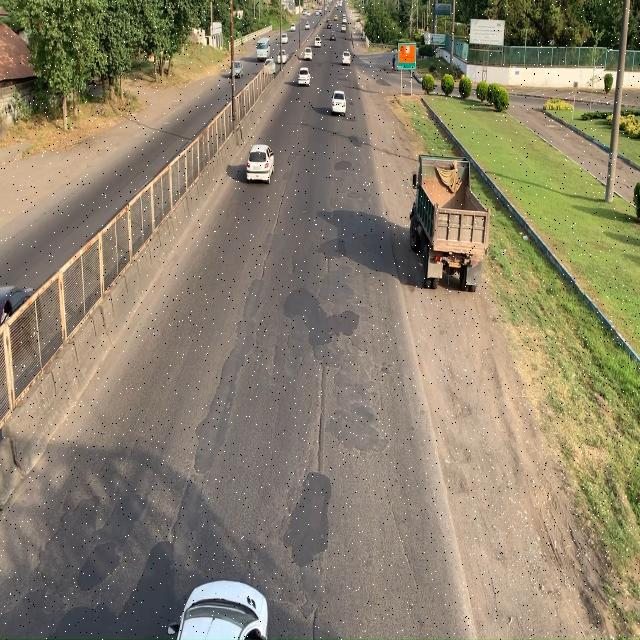Truck: (411, 150, 494, 290)
cars: (246, 144, 273, 183)
